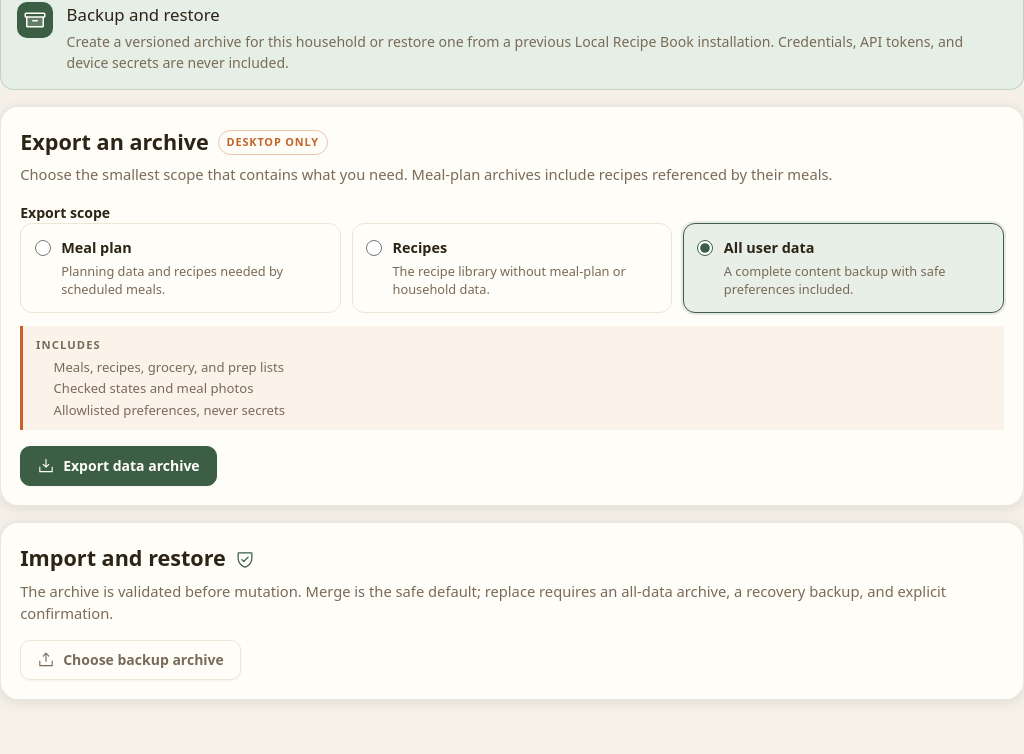
Scenario: DataManagementSection › defaults replace preferences off and confirms before applying
Click the button "Choose backup archive".
click(131, 660)  # box [20, 640, 241, 680]
(page scrolled)
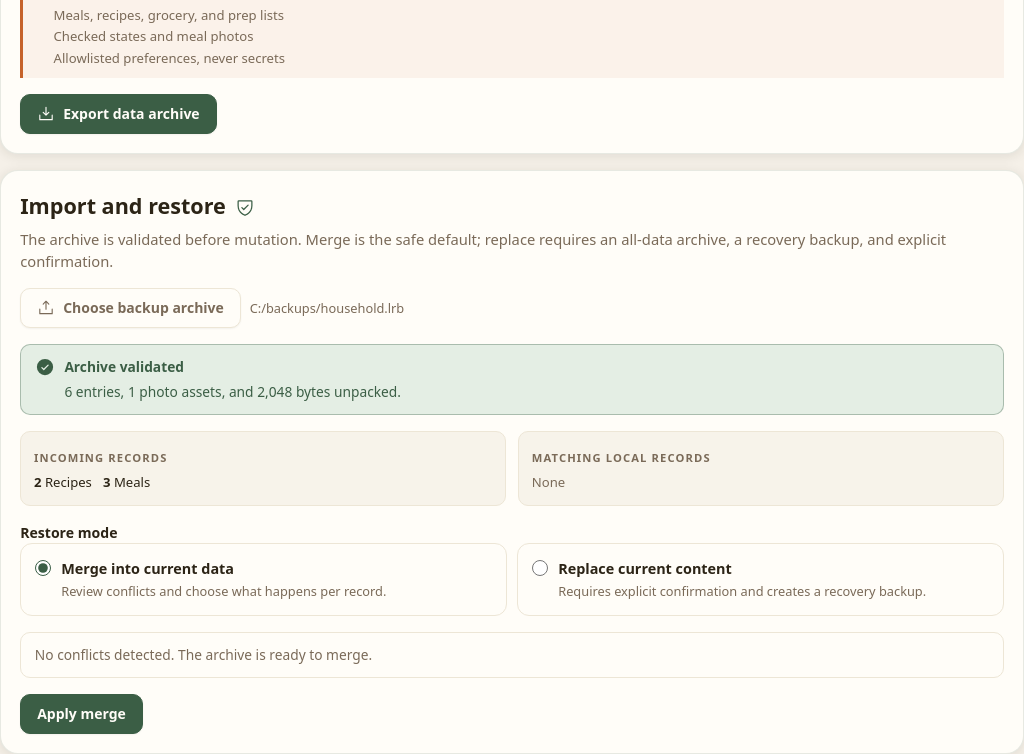
Now the text "Archive validated" is shown, box [64, 357, 184, 376]
Click the radio button labelled "Replace current content".
click(540, 568)  # box [532, 560, 548, 576]
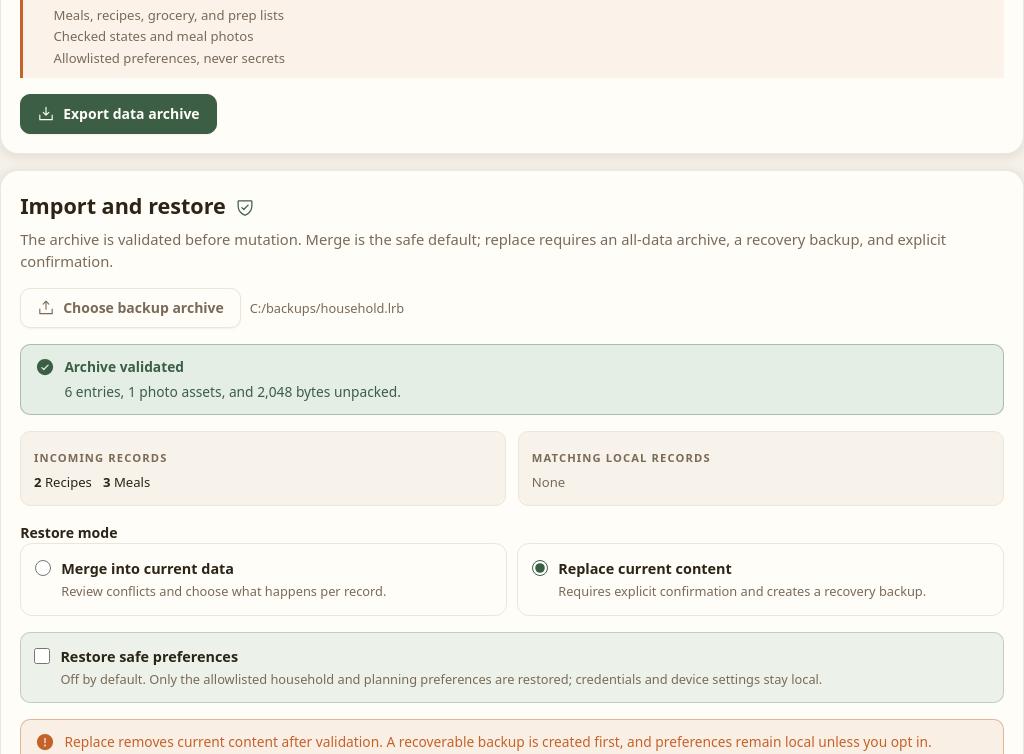
Now the checkbox labelled "Restore safe preferences" is not checked
Click the checkbox labelled "Restore safe preferences".
click(42, 656)  # box [34, 648, 50, 664]
(page scrolled)
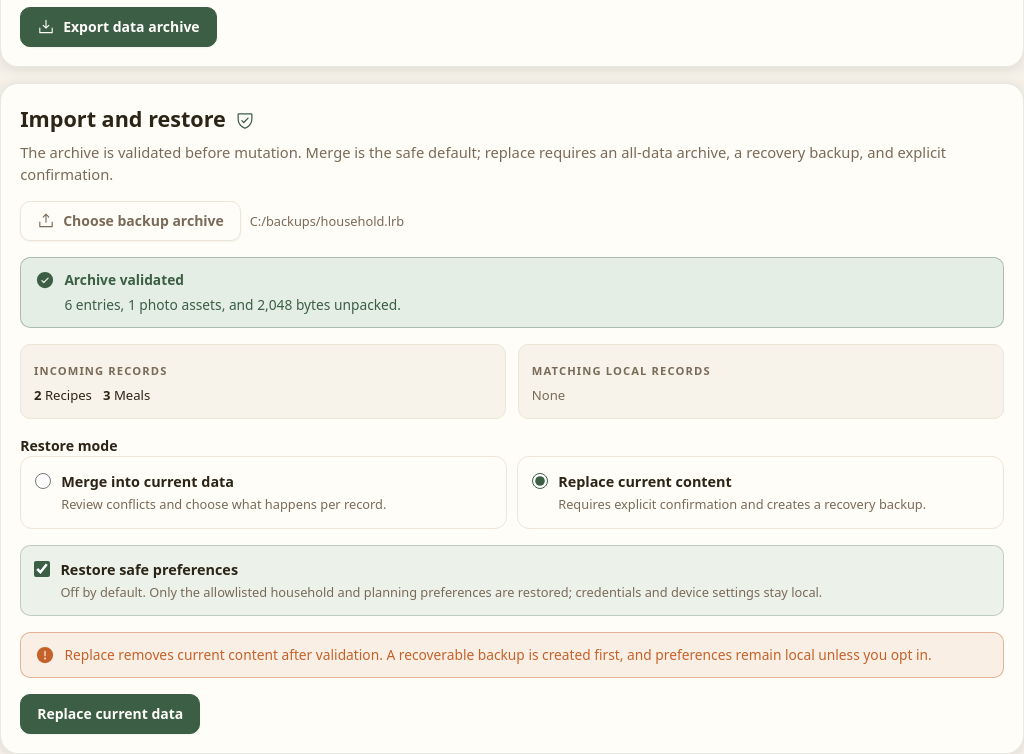
Click the button "Replace current data".
click(110, 714)  # box [20, 694, 200, 734]
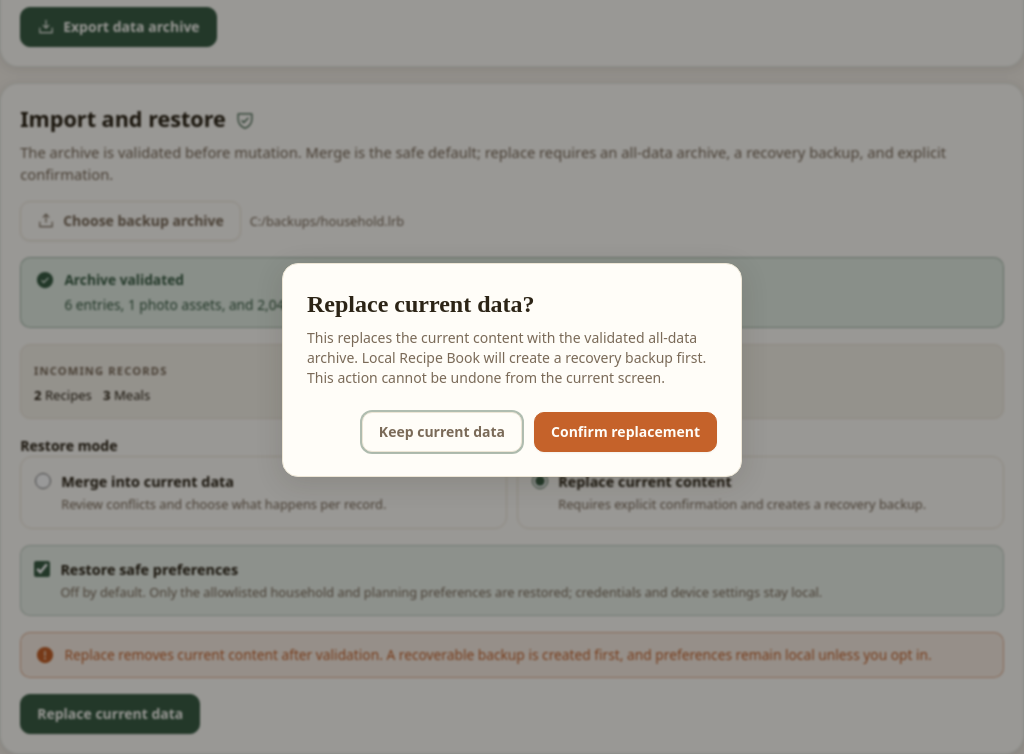
Now the dialog "Replace current data" is shown, box [282, 263, 742, 477]
Click the button "Confirm replacement".
click(626, 432)  # box [534, 412, 717, 452]
(page scrolled)
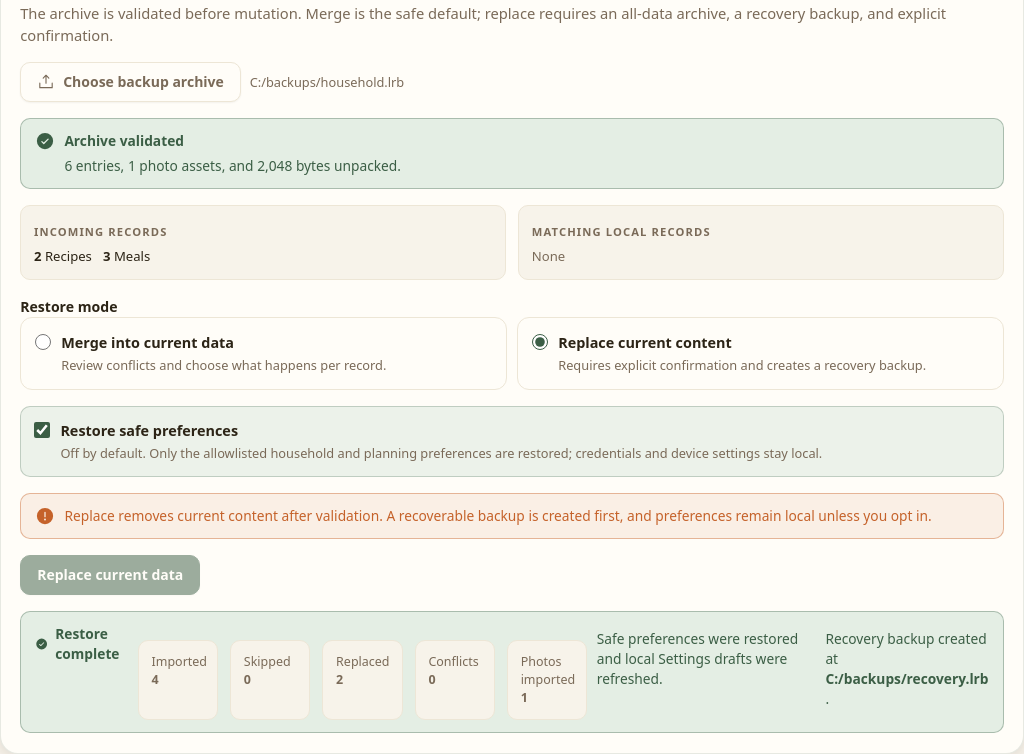
Now the text "Recovery backup created at C:/backups/recovery.lrb." is shown, box [825, 629, 989, 709]
